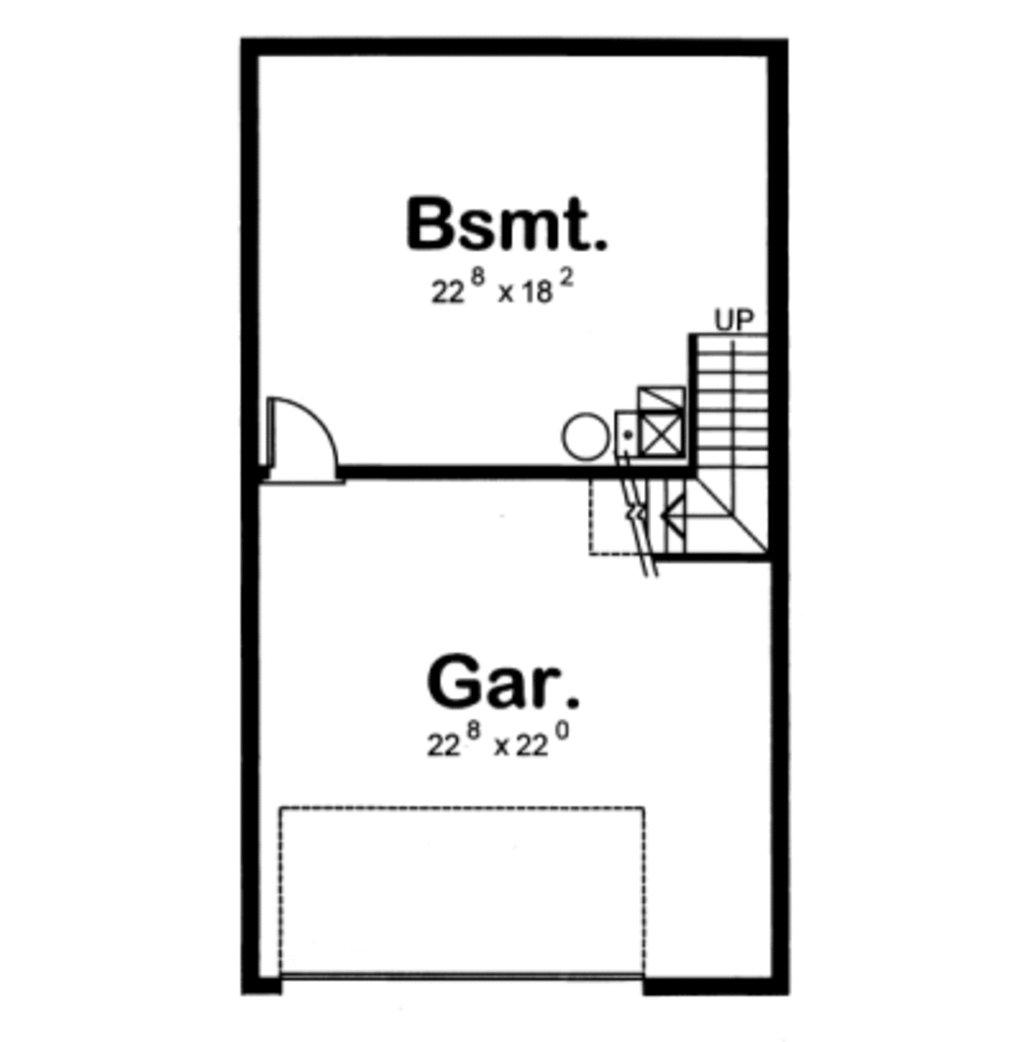door: (262, 392, 346, 497)
stairs: (684, 324, 771, 558)
